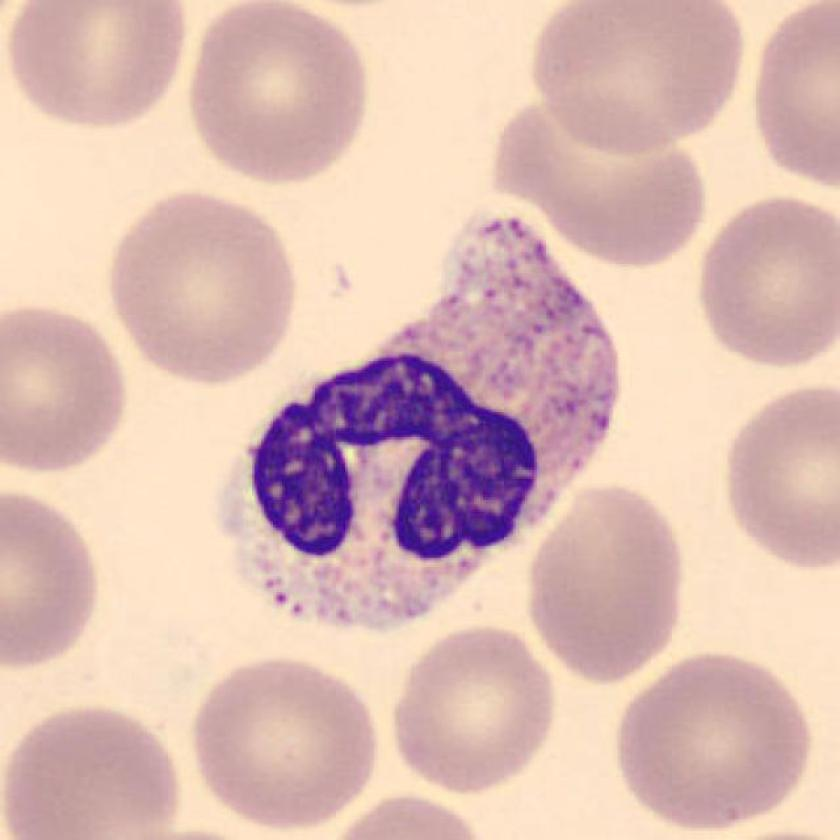neutrophil: (224, 216, 621, 623)
